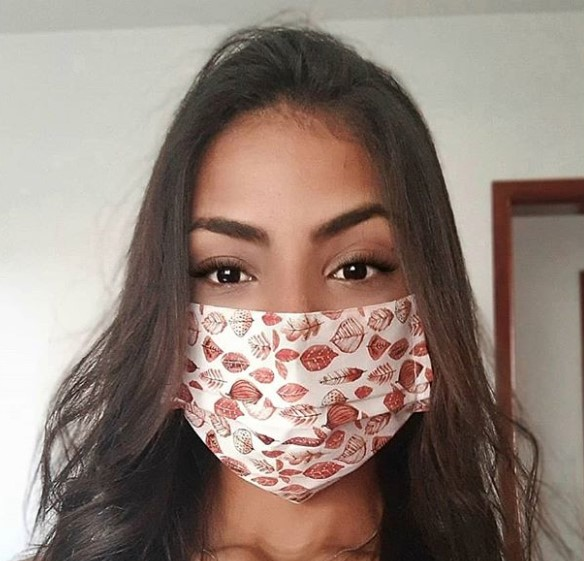face_with_mask: (159, 71, 454, 520)
